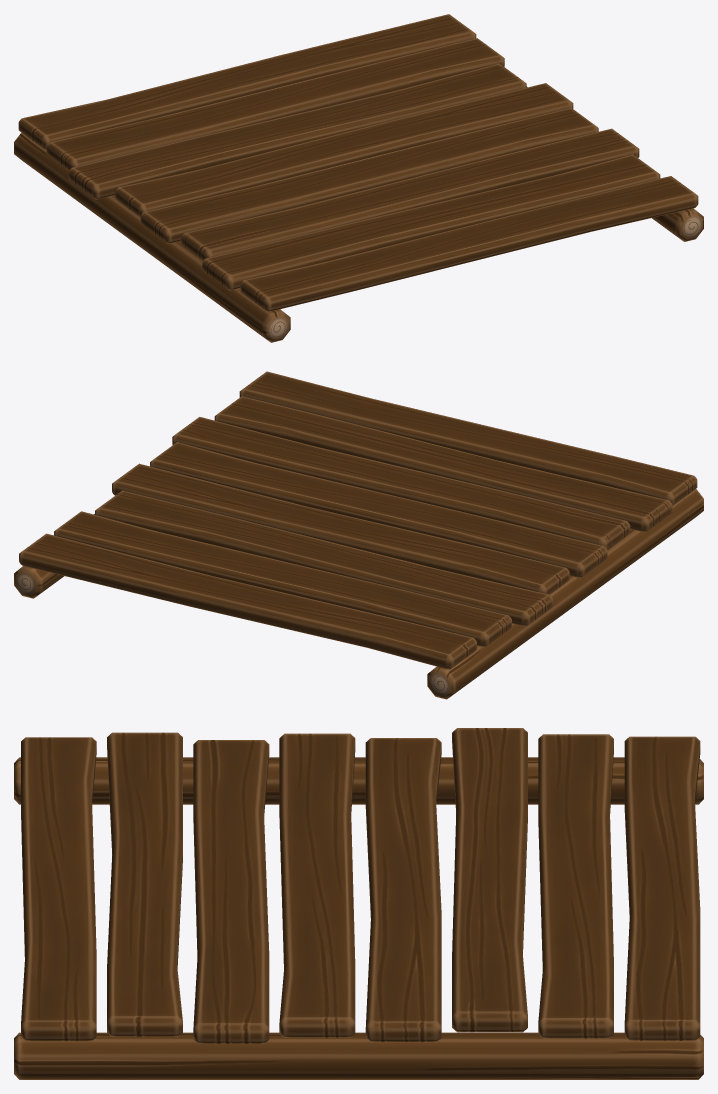
The model's file is planks.1.fbx.
3 views of the same model, one above another, from view 1: azimuth 30°, elevation 25°; view 2: azimuth 150°, elevation 25°; view 3: azimuth 270°, elevation 25° (orthographic). The views are drawn at different scales.
Visible parts, largest first — view 1: Planks.1; view 2: Planks.1; view 3: Planks.1.
Part boxes in pixels (x1=…): Planks.1: x1=14, y1=14, x2=703, y2=342; Planks.1: x1=14, y1=371, x2=703, y2=699; Planks.1: x1=14, y1=728, x2=703, y2=1079.
Bounding box in the file's own units: 206 × 18.99 × 200.
